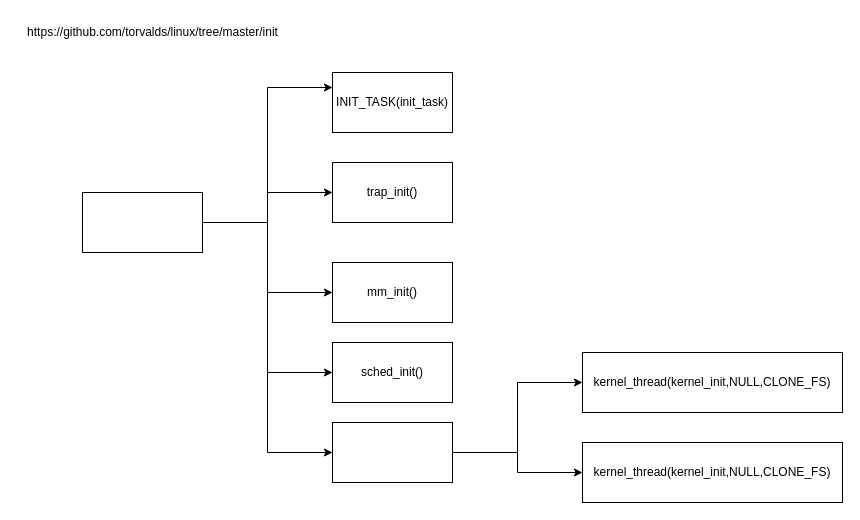
Image size: 860x520. Some labels were removed from this diagram. The centre of each missing label's shape, as x and y in pixels:
rest_init(): point 392,452
start_kernel() 内核启动，相当于内核的main函数 linux/init/main.c: point 142,222
